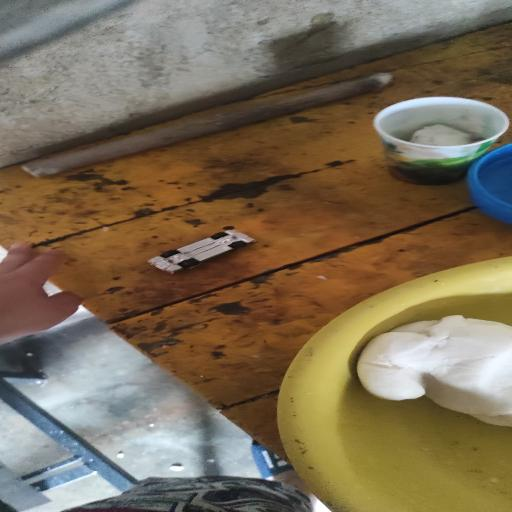Carrito: (148, 229, 255, 274)
